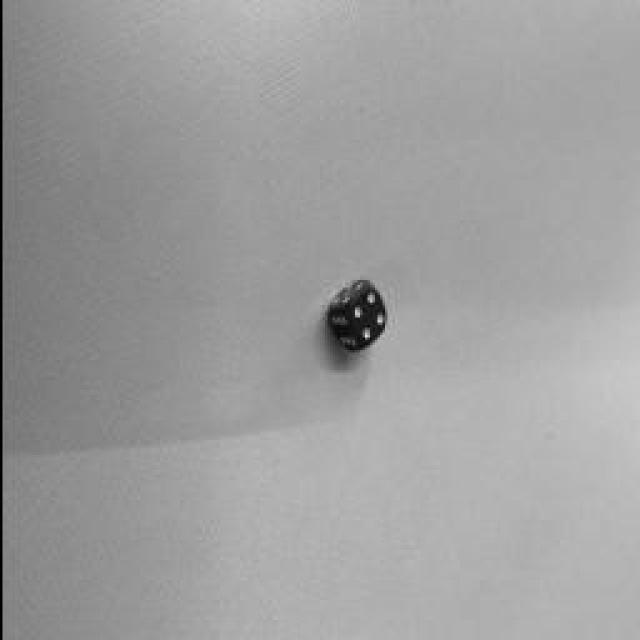dice_4: (348, 288, 382, 348)
